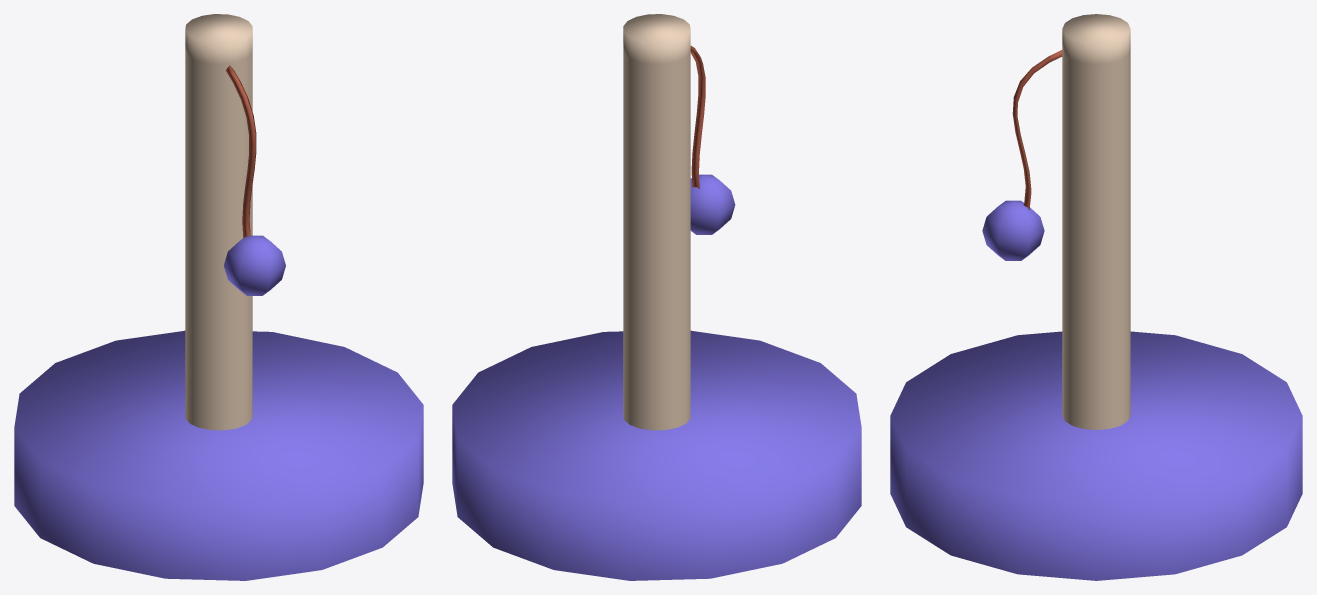
The model's file is Scratcher.fbx.
The picture shows the model from 3 angles, left to right: view 1: azimuth 30°, elevation 25°; view 2: azimuth 150°, elevation 25°; view 3: azimuth 270°, elevation 25°; orthographic projection.
Parts seen in each view (by area): view 1: Cat Scratcher; view 2: Cat Scratcher; view 3: Cat Scratcher.
Boxes of the visible parts, bbox=[...] form: Cat Scratcher: bbox=[14, 14, 423, 580]; Cat Scratcher: bbox=[452, 14, 861, 580]; Cat Scratcher: bbox=[890, 14, 1302, 580].
Bounding box in the file's own units: 61.91 × 77.13 × 61.91.
